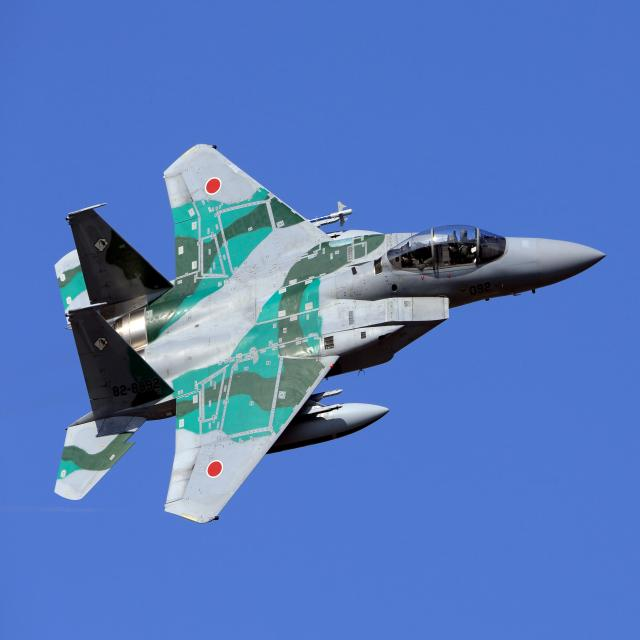MIL_Plane: (54, 143, 606, 523)
